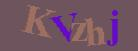K: (20, 5, 55, 37)
V: (49, 12, 77, 41)
h: (84, 18, 106, 45)
j: (106, 10, 117, 45)
z: (71, 22, 87, 41)
